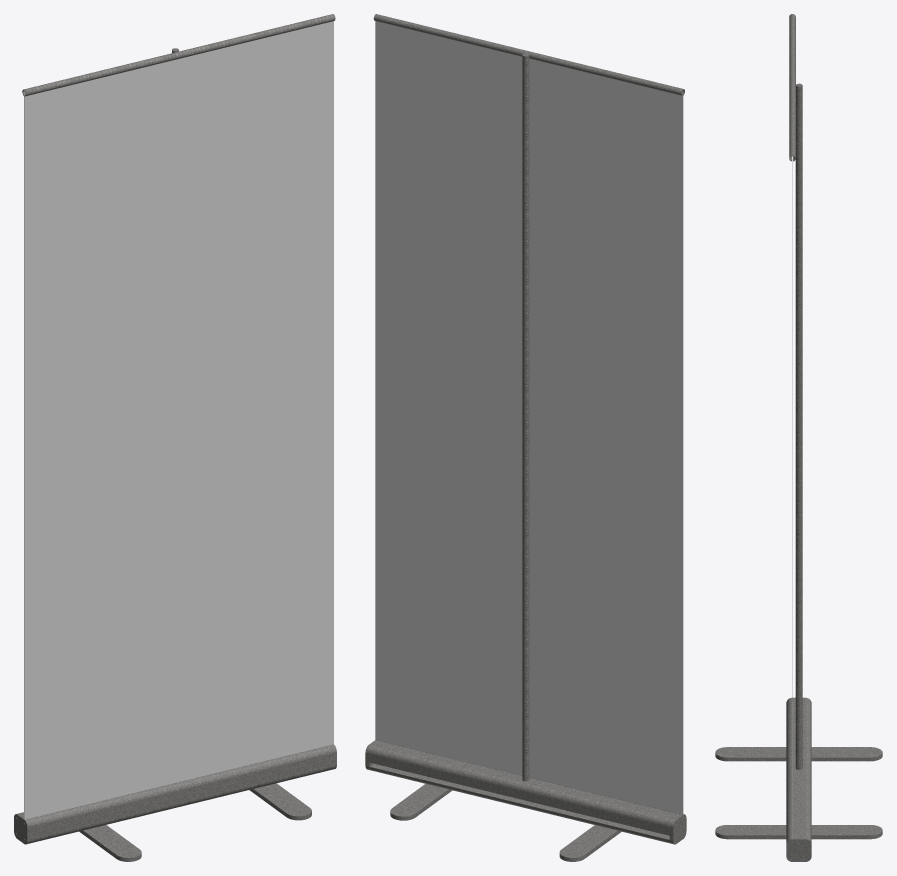
The model's file is standee.glb.
The picture shows the model from 3 angles, left to right: view 1: azimuth 30°, elevation 25°; view 2: azimuth 150°, elevation 25°; view 3: azimuth 270°, elevation 25°; orthographic projection. The views are drawn at different scales.
Visible parts, largest first — view 1: Material2 (×2); view 2: Material2 (×2); view 3: Material2 (×2).
Part boxes in pixels (x1,y1,x2,y2): Material2 (×2): (14, 14, 336, 861); Material2 (×2): (365, 14, 686, 861); Material2 (×2): (715, 14, 882, 861).
Size of the model in its own units: 31.57 by 73.73 by 15.74.
Materials: 2 (1 with a texture image).
